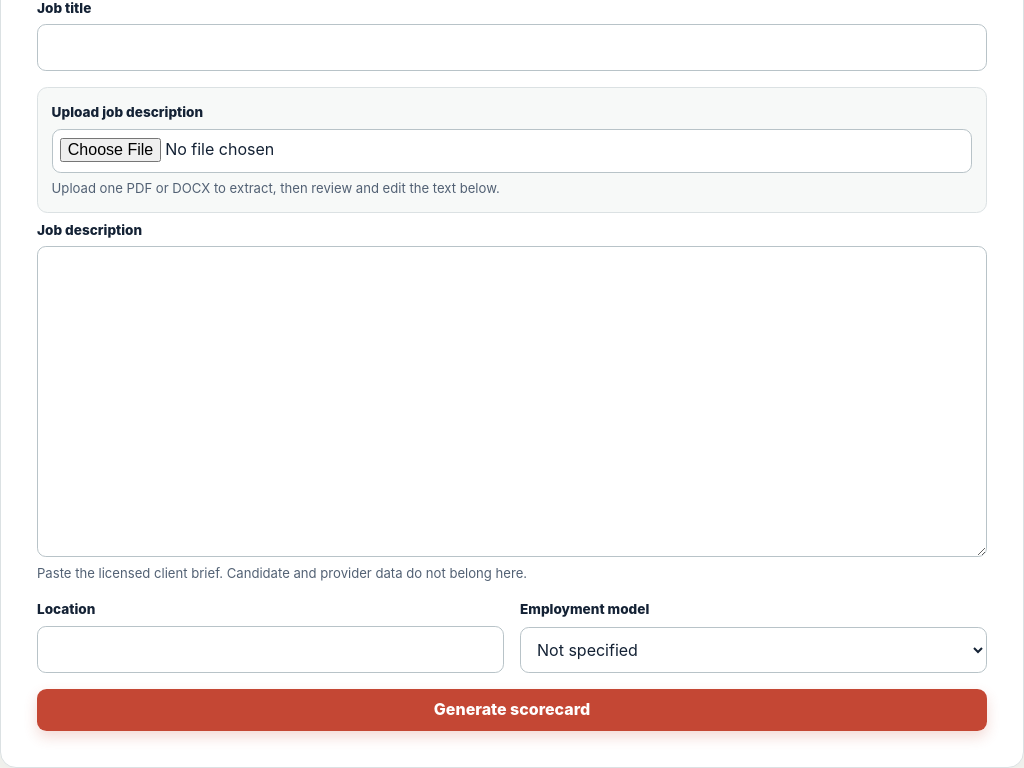
Test: JobIntakeForm › requires a client and job description
(page scrolled)
Click the button "Generate scorecard" at [512, 710], box [37,689,987,731]
(page scrolled)
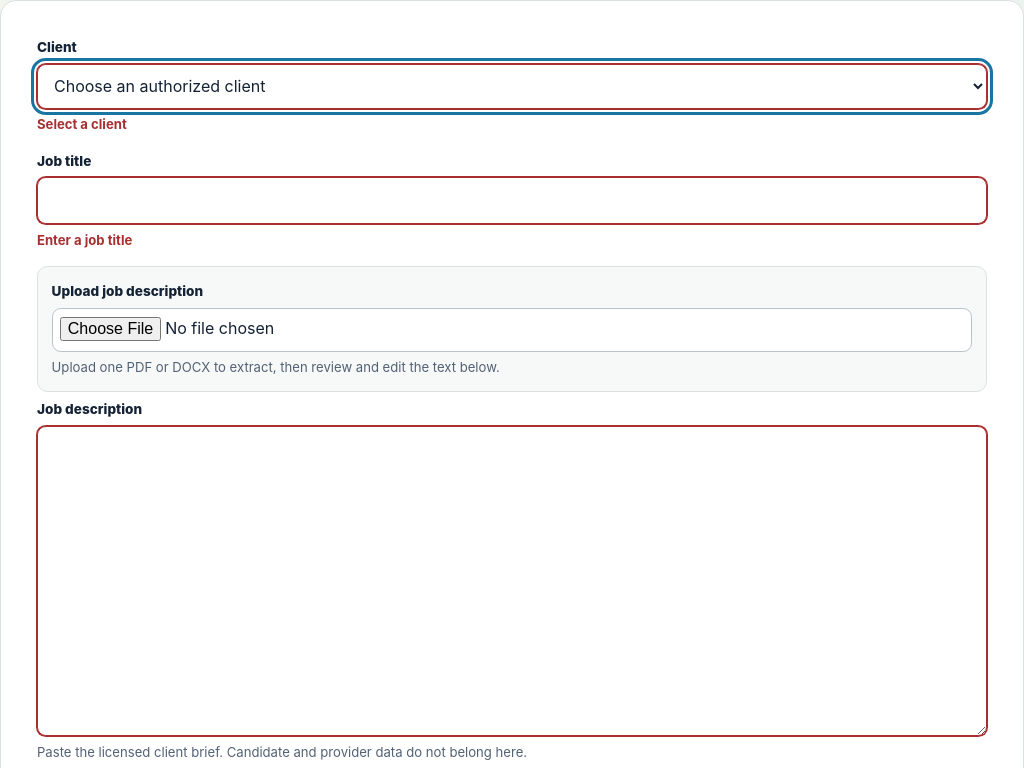
Expected: the text "Select a client" is shown, [37,116,127,132]
